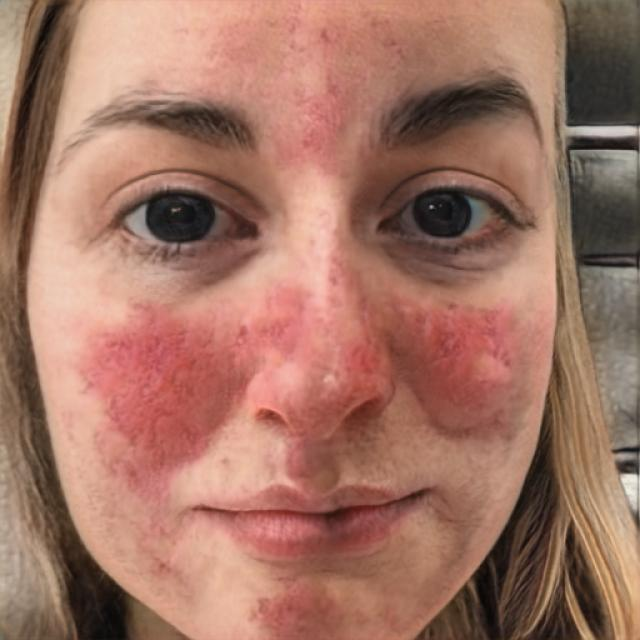Rosacea: (82, 306, 251, 482), (386, 289, 516, 417), (253, 276, 375, 376), (247, 569, 350, 640)
